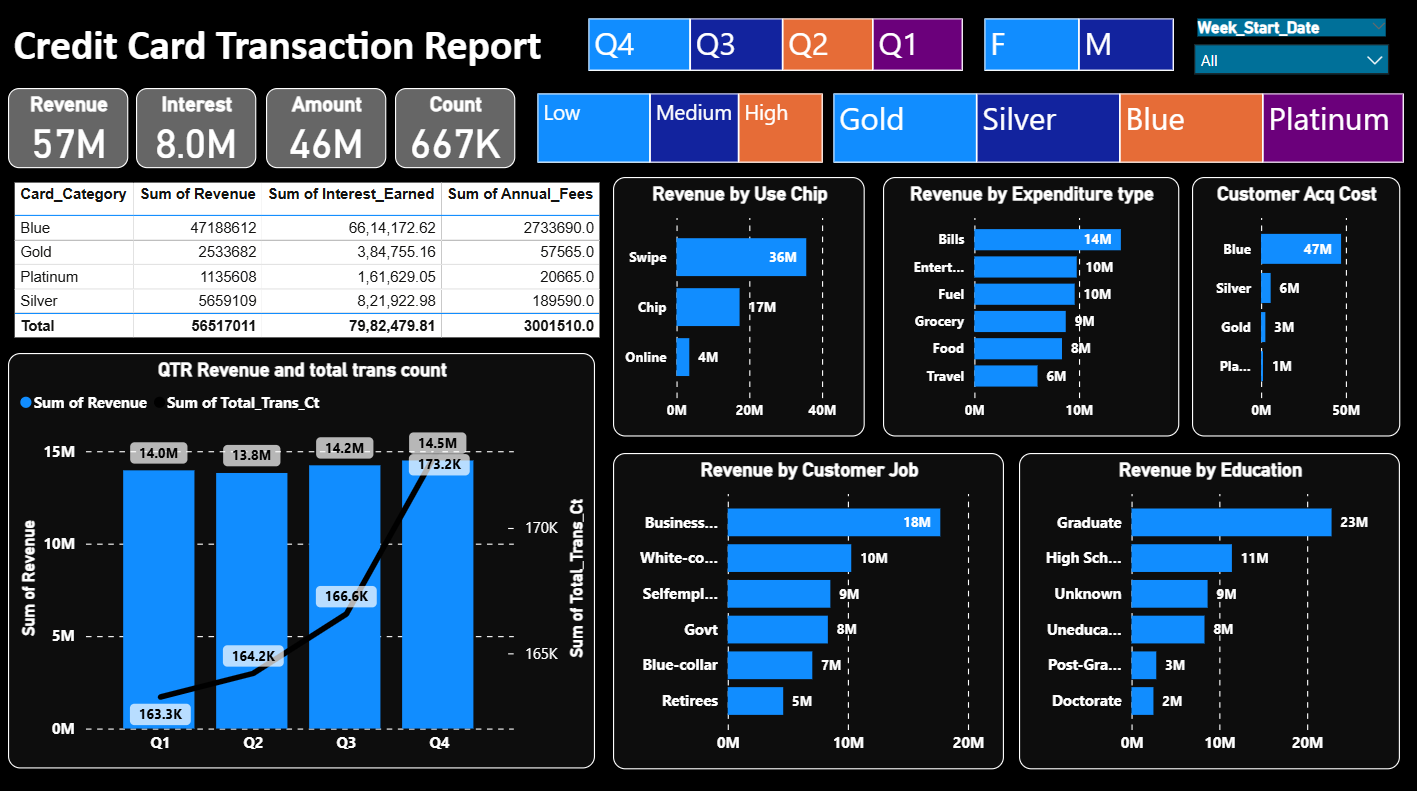

The page's visual inventory and layout, read from the dashboard file:
{"tool":"powerbi","page":{"name":"CC Transaction","canvas":[1280,720],"ordinal":0},"visuals":[{"type":"textbox","box":[11,13.5,500.6,56.4],"z":0},{"type":"lineStackedColumnComboChart","title":"QTR Revenue and total trans count","fields":{"Y":["Sum(ccdb cc_detail.Revenue)"],"Category":["ccdb cc_detail.Qtr"],"Y2":["Sum(ccdb cc_detail.Total_Trans_Ct)"]},"box":[10.8,318.7,527,373.5],"z":1000},{"type":"barChart","title":"Revenue by Expenditure type","fields":{"Y":["Sum(ccdb cc_detail.Revenue)"],"Category":["ccdb cc_detail.Exp_Type"]},"box":[796.3,160.7,265.7,232.5],"z":2000},{"type":"barChart","title":"Revenue by Education","fields":{"Y":["Sum(ccdb cc_detail.Revenue)"],"Category":["ccdb cust_detail.Education_Level"]},"box":[918.4,408.5,342,283.7],"z":3000},{"type":"barChart","title":"Revenue by Customer Job","fields":{"Y":["Sum(ccdb cc_detail.Revenue)"],"Category":["ccdb cust_detail.Customer_Job"]},"box":[553.9,408.5,351,283.7],"z":4000},{"type":"barChart","title":"Customer Acq Cost","fields":{"Y":["Sum(ccdb cc_detail.Revenue)"],"Category":["ccdb cc_detail.Card_Category"]},"box":[1073.7,160.7,186.7,232.5],"z":5000},{"type":"barChart","title":"Revenue by Use Chip","fields":{"Y":["Sum(ccdb cc_detail.Revenue)"],"Category":["ccdb cc_detail.Use_Chip"]},"box":[553.9,160.7,226.2,232.5],"z":6000},{"type":"tableEx","fields":{"Values":["ccdb cc_detail.Card_Category","Sum(ccdb cc_detail.Revenue)","Sum(ccdb cc_detail.Interest_Earned)","Sum(ccdb cc_detail.Annual_Fees)"]},"box":[10.8,160.7,543.1,158],"z":7000},{"type":"card","title":"Interest","fields":{"Values":["Sum(ccdb cc_detail.Interest_Earned)"]},"box":[125.7,80.8,107.7,71.8],"z":8000},{"type":"card","title":"Revenue","fields":{"Values":["Sum(ccdb cc_detail.Revenue)"]},"box":[10.8,80.8,107.7,71.8],"z":9000},{"type":"card","title":"Count","fields":{"Values":["Sum(ccdb cc_detail.Total_Trans_Ct)"]},"box":[358.2,80.8,107.7,71.8],"z":10000},{"type":"card","title":"Amount","fields":{"Values":["Sum(ccdb cc_detail.Total_Trans_Amt)"]},"box":[242.4,80.8,107.7,71.8],"z":11000},{"type":"slicer","fields":{"Values":["ccdb cc_detail.Week_Start_Date"]},"box":[1065.6,13.5,194.8,67.3],"z":12000},{"type":"treemap","fields":{"Values":["Avg(ccdb cc_detail.Client_Num)"],"Group":["ccdb cc_detail.Qtr"]},"box":[527,13.5,345.6,56.6],"z":13000},{"type":"treemap","fields":{"Values":["Avg(ccdb cc_detail.Client_Num)"],"Group":["ccdb cust_detail.Gender"]},"box":[882.5,13.5,179.6,56.6],"z":14000},{"type":"treemap","fields":{"Values":["Avg(ccdb cc_detail.Client_Num)"],"Group":["ccdb cc_detail.Card_Category"]},"box":[746.9,80.8,521.6,71.8],"z":15000},{"type":"treemap","fields":{"Values":["Sum(ccdb cc_detail.Client_Num)"],"Group":["ccdb cust_detail.IncomeGroup"]},"box":[481.2,80.8,265.7,71.8],"z":16000}]}

Visuals, with their boxes in screenshot pixels (x1, y1, x2, y2), scaled from the page's 1280x720 canvas onto the 1417x791 screenshot:
textbox: [left=12, top=15, right=566, bottom=77]
"QTR Revenue and total trans count" lineStackedColumnComboChart: [left=12, top=350, right=595, bottom=760]
"Revenue by Expenditure type" barChart: [left=882, top=177, right=1176, bottom=432]
"Revenue by Education" barChart: [left=1017, top=449, right=1395, bottom=760]
"Revenue by Customer Job" barChart: [left=613, top=449, right=1002, bottom=760]
"Customer Acq Cost" barChart: [left=1189, top=177, right=1395, bottom=432]
"Revenue by Use Chip" barChart: [left=613, top=177, right=864, bottom=432]
tableEx - ccdb cc_detail.Card_Category x Sum(ccdb cc_detail.Revenue): [left=12, top=177, right=613, bottom=350]
"Interest" card: [left=139, top=89, right=258, bottom=168]
"Revenue" card: [left=12, top=89, right=131, bottom=168]
"Count" card: [left=397, top=89, right=516, bottom=168]
"Amount" card: [left=268, top=89, right=388, bottom=168]
slicer - ccdb cc_detail.Week_Start_Date: [left=1180, top=15, right=1395, bottom=89]
treemap - Avg(ccdb cc_detail.Client_Num) x ccdb cc_detail.Qtr: [left=583, top=15, right=966, bottom=77]
treemap - Avg(ccdb cc_detail.Client_Num) x ccdb cust_detail.Gender: [left=977, top=15, right=1176, bottom=77]
treemap - Avg(ccdb cc_detail.Client_Num) x ccdb cc_detail.Card_Category: [left=827, top=89, right=1404, bottom=168]
treemap - Sum(ccdb cc_detail.Client_Num) x ccdb cust_detail.IncomeGroup: [left=533, top=89, right=827, bottom=168]
